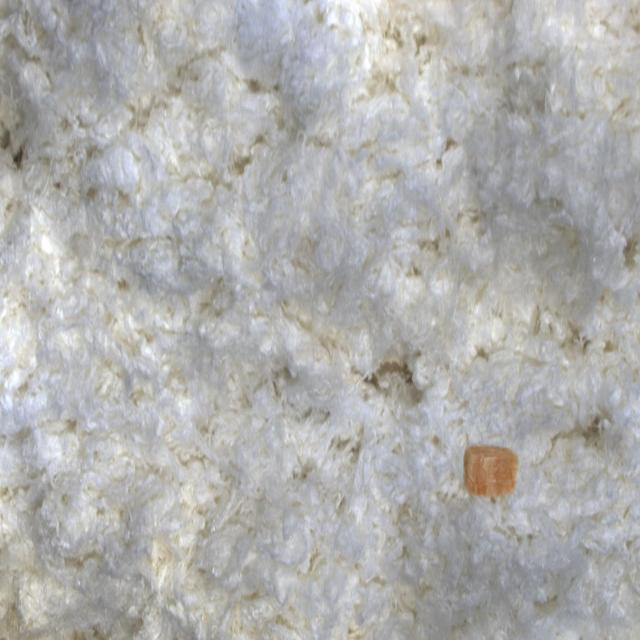dust: (422, 392, 553, 535)
